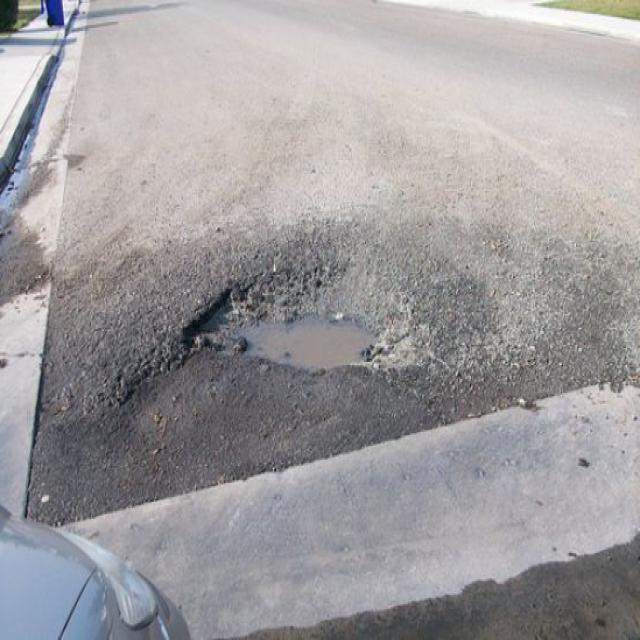Pothole: (174, 250, 455, 375)
